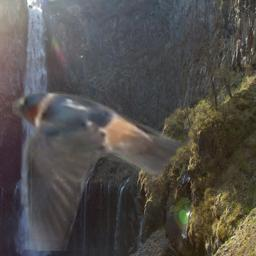Swallow: (12, 85, 186, 251)
